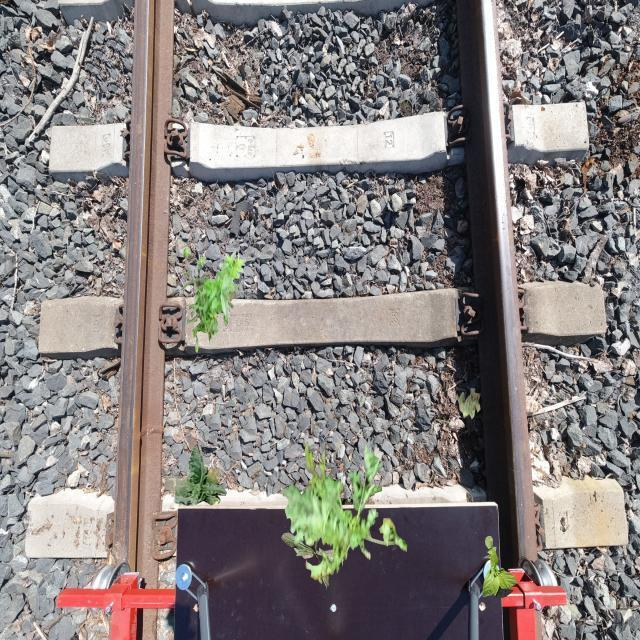Plant: (283, 439, 408, 586), (182, 245, 247, 352), (281, 508, 345, 592), (164, 444, 228, 506), (482, 536, 518, 598), (195, 260, 236, 314), (455, 388, 481, 420)
